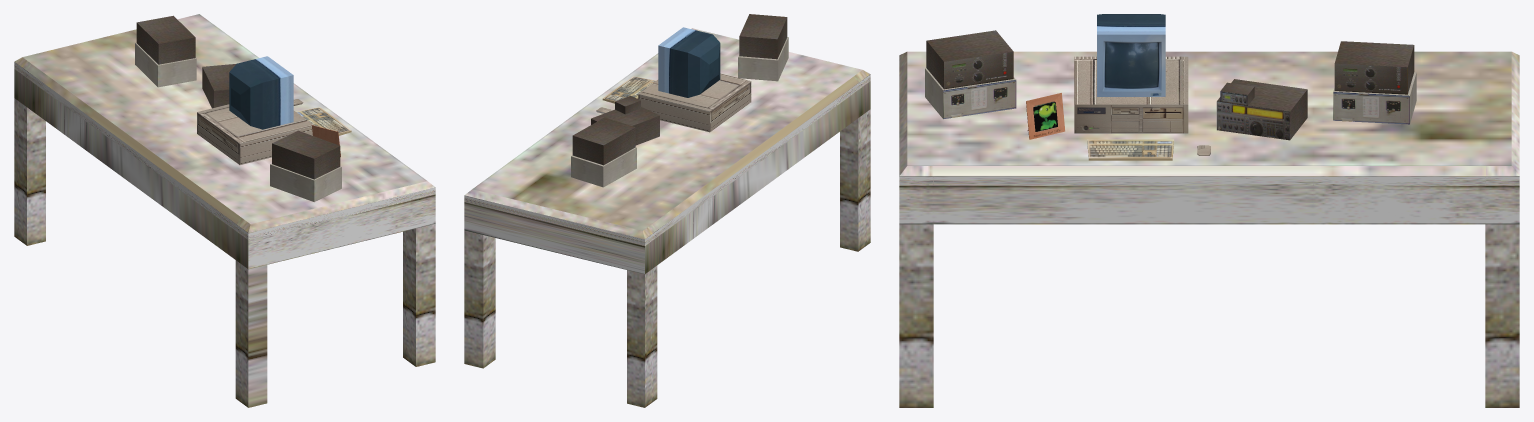
Rendered from RadioTable.glb.
3 views of the same model, side by side, from view 1: azimuth 30°, elevation 25°; view 2: azimuth 150°, elevation 25°; view 3: azimuth 270°, elevation 25° (orthographic). The views are drawn at different scales.
Parts seen in each view (by area): view 1: Table, Set 3, Monitor, Set 2, Box, Set 1, Board; view 2: Table, Box, Monitor, Set 2, Set 3, Set 1, Board; view 3: Table, Set 3, Set 2, Box, Monitor, Set 1, Board, Frame.
Part boxes in pixels (bbox=[...]): Table: bbox=[14, 14, 435, 407]; Set 3: bbox=[270, 130, 341, 201]; Monitor: bbox=[229, 56, 293, 129]; Set 2: bbox=[135, 15, 196, 87]; Box: bbox=[197, 104, 313, 164]; Set 1: bbox=[202, 64, 235, 108]; Board: bbox=[296, 107, 351, 135]; Table: bbox=[464, 28, 870, 407]; Box: bbox=[638, 73, 751, 132]; Monitor: bbox=[658, 27, 720, 97]; Set 2: bbox=[571, 117, 636, 187]; Set 3: bbox=[738, 14, 788, 81]; Set 1: bbox=[591, 96, 659, 145]; Board: bbox=[602, 76, 655, 103]; Table: bbox=[899, 51, 1519, 407]; Set 3: bbox=[925, 30, 1016, 119]; Set 2: bbox=[1333, 41, 1416, 124]; Box: bbox=[1074, 56, 1188, 133]; Monitor: bbox=[1097, 14, 1165, 96]; Set 1: bbox=[1216, 79, 1307, 140]; Board: bbox=[1087, 139, 1173, 160]; Frame: bbox=[1026, 93, 1065, 139].
Bounding box in the file's own units: 1.06 × 1.35 × 2.3.
7 materials, 7 textured.
